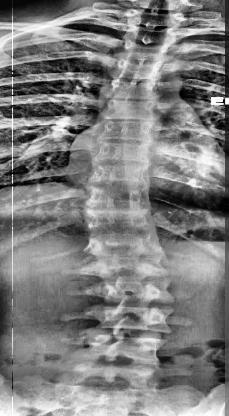Vertebrae: (90, 328, 164, 362), (89, 251, 167, 280), (72, 364, 161, 388), (99, 306, 173, 333), (86, 208, 166, 232), (101, 280, 167, 308), (91, 160, 154, 186), (90, 235, 160, 255), (89, 186, 150, 208), (95, 141, 156, 162), (102, 120, 156, 142), (104, 99, 160, 118), (105, 79, 161, 97), (128, 7, 176, 27), (114, 60, 162, 80), (121, 42, 165, 58), (128, 26, 170, 42)
